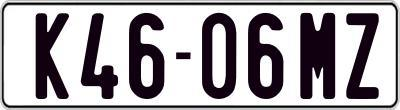0: (200, 12, 240, 102)
4: (81, 11, 123, 99)
6: (247, 10, 286, 96), (129, 11, 167, 97)
K: (36, 10, 72, 101)
M: (298, 13, 339, 102)
Z: (345, 10, 381, 96)
